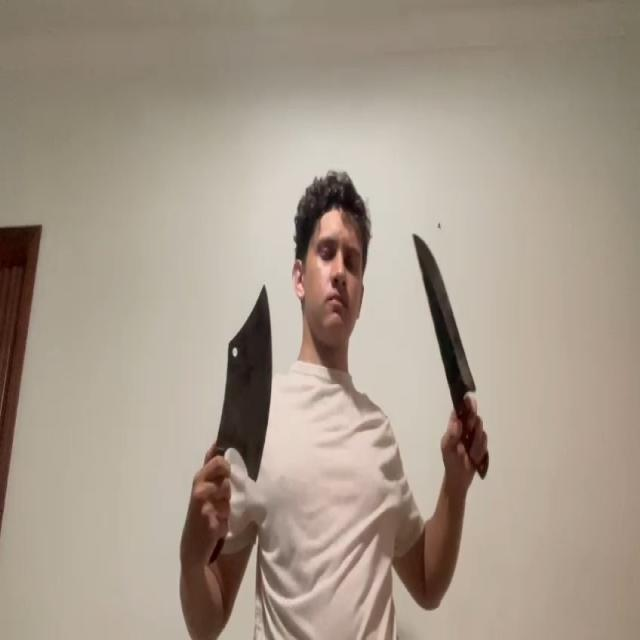knife: (411, 233, 474, 394), (224, 282, 272, 483)
